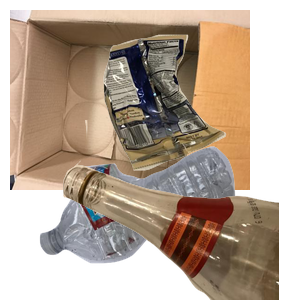cardboard: (10, 10, 250, 190)
glass: (60, 120, 300, 300)
plastic: (37, 144, 265, 300)
trash: (101, 32, 300, 195)
